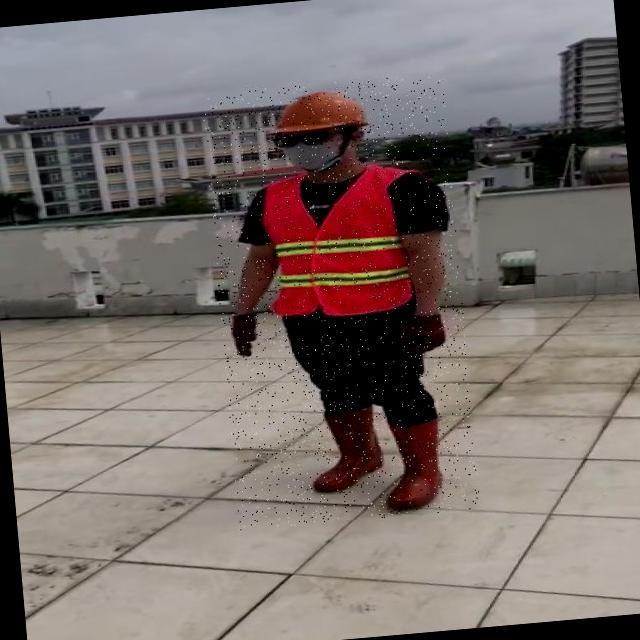boots: (306, 406, 385, 492), (375, 414, 443, 512)
gloves: (396, 308, 448, 358), (227, 312, 261, 357)
helmet: (268, 86, 369, 136)
vest: (256, 168, 414, 320)
